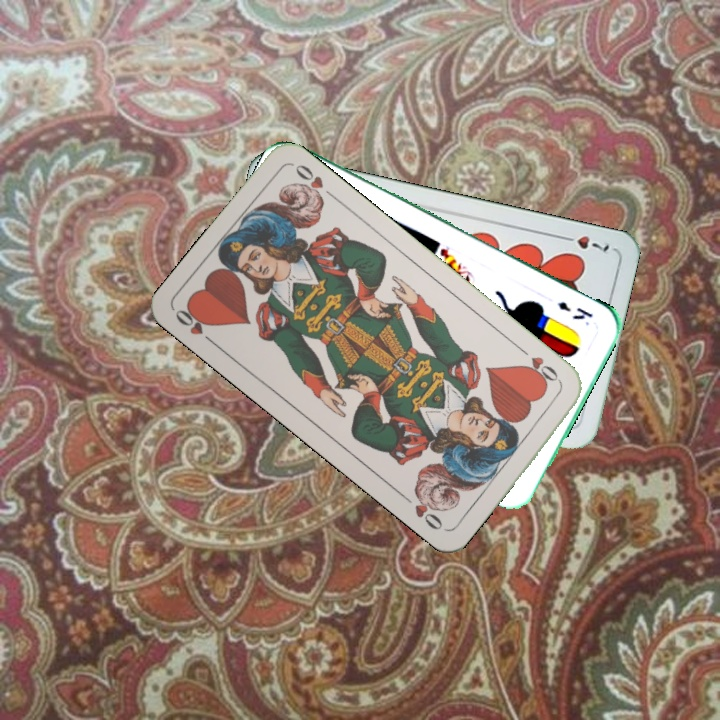EK: (552, 297, 595, 322)
H7: (556, 231, 612, 254)
HO: (171, 302, 220, 350), (515, 343, 564, 388)
